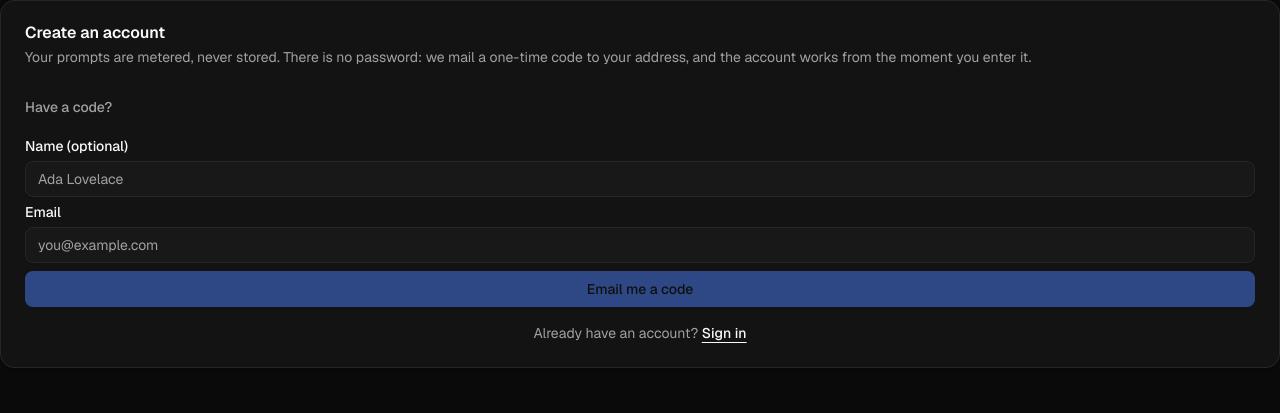
Test: SignUpForm › mails a code to the address before anything is created
Step 1. Type "Dev Eloper" into the field labelled "Name (optional)" → [640, 179], box [25, 161, 1255, 197]
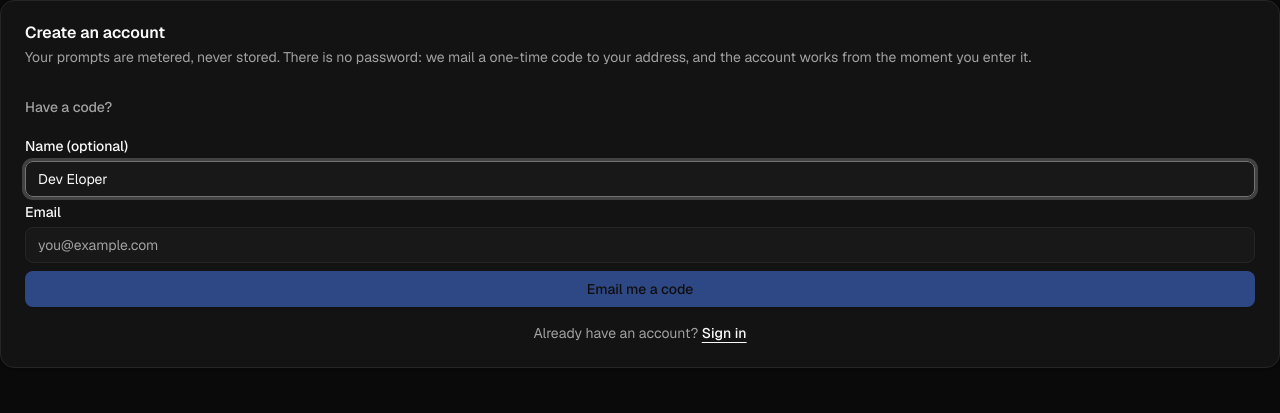
Step 2. Type "dev@example.com" into the field labelled "Email" → [640, 245], box [25, 227, 1255, 263]
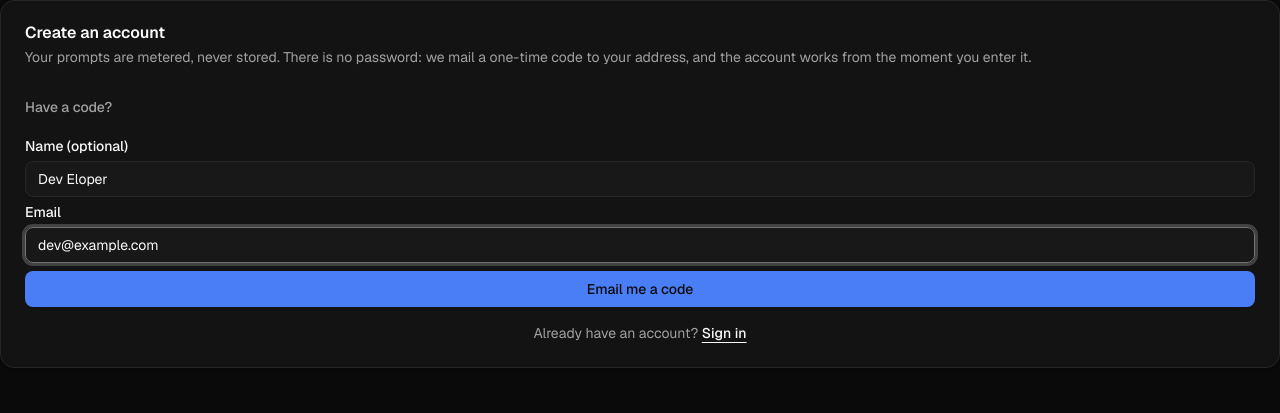
Step 3. Click the button "Email me a code" → [640, 289], box [25, 271, 1255, 307]
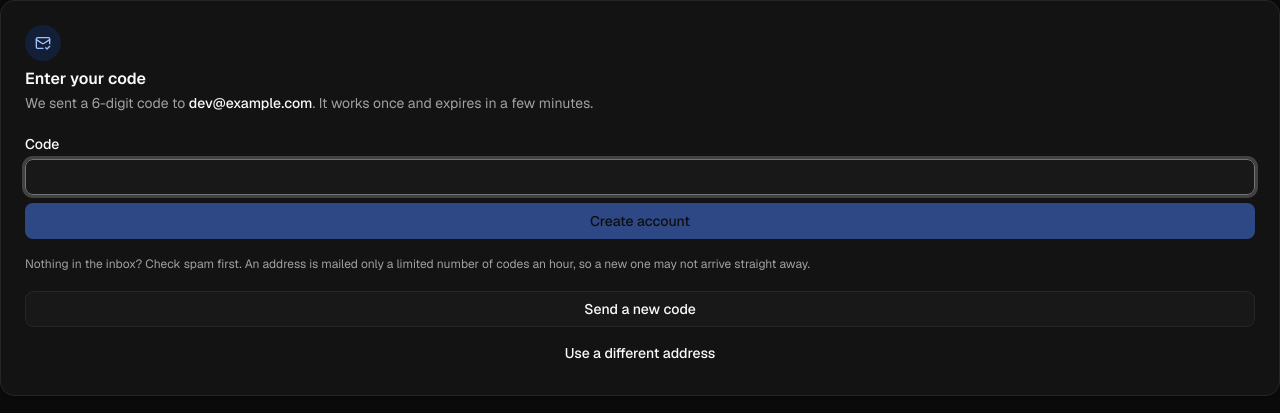
Result: the text "We sent a 6-digit code to" shows "dev@example.com" at [189, 94, 312, 112]
